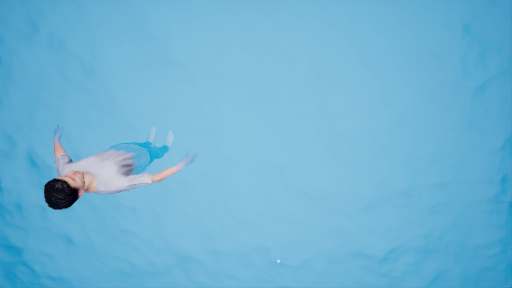person: (41, 125, 193, 210)
